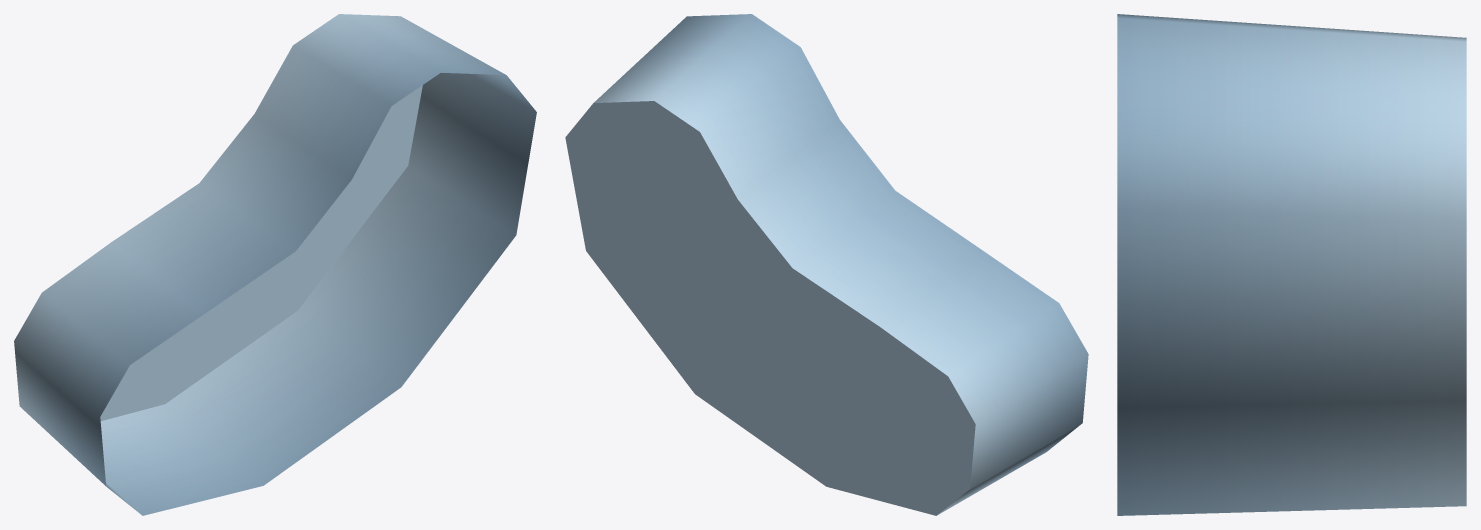
The model's file is Step 02.FBX.
3 renders of one model, left to right at view 1: azimuth 30°, elevation 25°; view 2: azimuth 150°, elevation 25°; view 3: azimuth 270°, elevation 25°, orthographic. The views are drawn at different scales.
Visible parts, largest first — view 1: Step 02; view 2: Step 02; view 3: Step 02.
Part boxes in pixels (x1,y1,x2,y2): Step 02: [14, 14, 536, 515]; Step 02: [565, 14, 1088, 515]; Step 02: [1117, 14, 1466, 515].
Size of the model in its own units: 222 by 180 by 88.26.
1 material, 1 textured.
